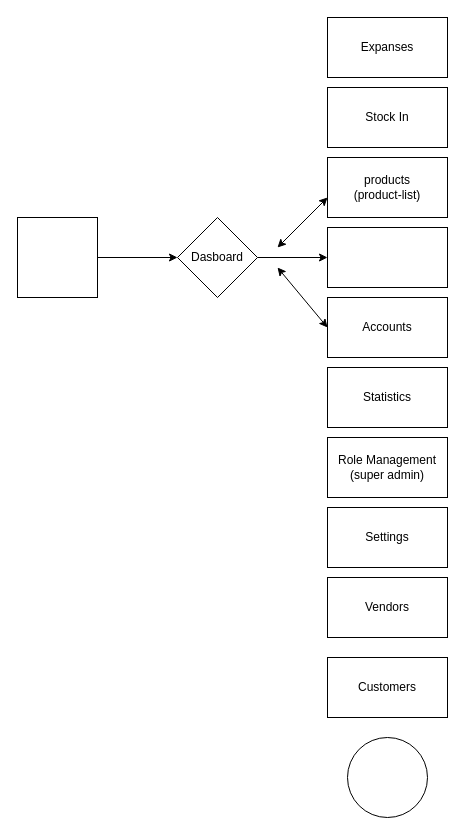
This 465x835 diagram has some shape labels left out. Here are the shapes that lost their labels. From the top down, the centre of each, then its label:
(x=57, y=257): Login
(x=387, y=257): sales (list of invoices)
(x=387, y=777): cart
